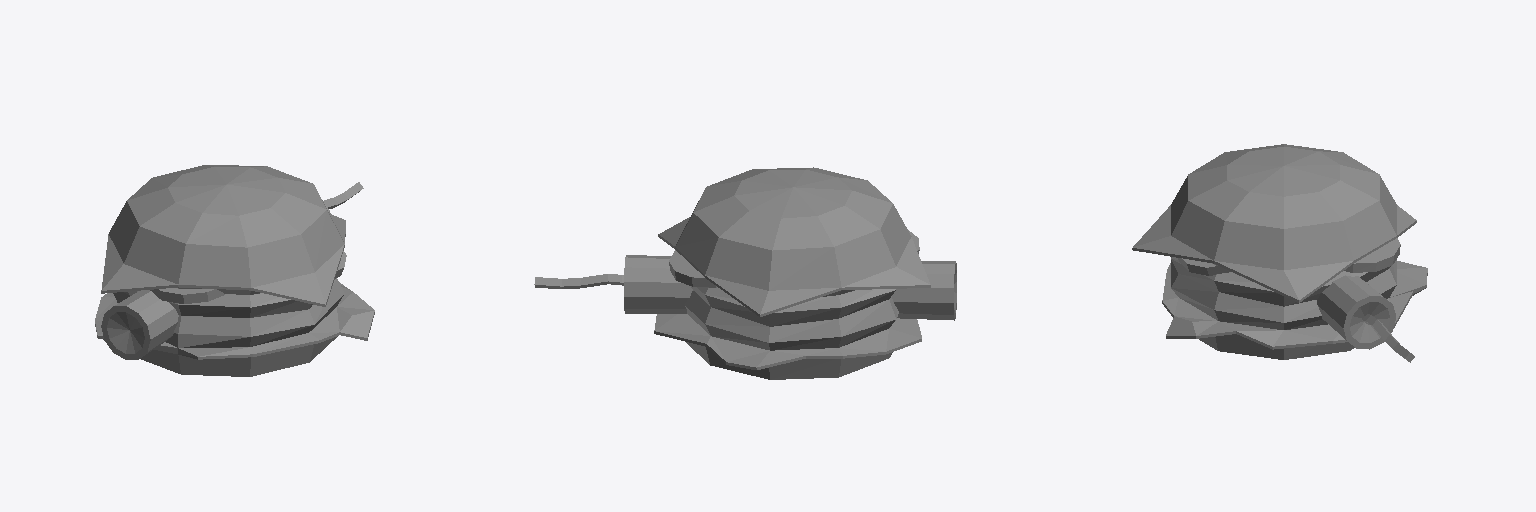
The model's file is Burger_Explosive.obj.
The picture shows the model from 3 angles: view 1: azimuth 30°, elevation 25°; view 2: azimuth 150°, elevation 25°; view 3: azimuth 270°, elevation 25°; orthographic projection.
Visible parts, largest first — view 1: Burger_Explosive; view 2: Burger_Explosive; view 3: Burger_Explosive.
Part boxes in pixels (x1,y1,x2,y2): Burger_Explosive: (95, 165, 374, 376); Burger_Explosive: (534, 167, 956, 379); Burger_Explosive: (1132, 144, 1427, 362).
Size of the model in its own units: 15.96 by 6.87 by 11.98.